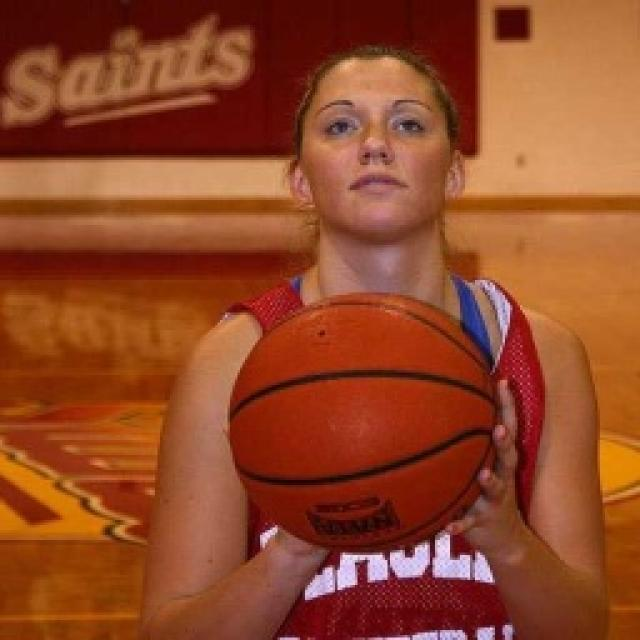rim: (222, 286, 508, 556)
